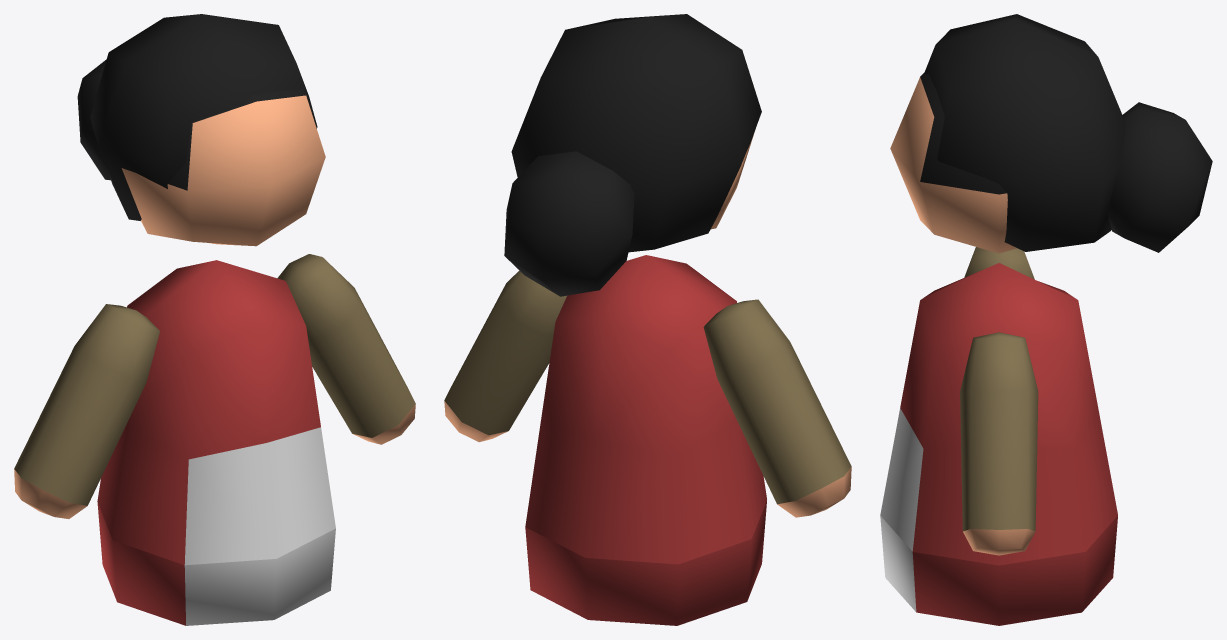
The model's file is Girl_1.fbx.
3 renders of one model, left to right at view 1: azimuth 30°, elevation 25°; view 2: azimuth 150°, elevation 25°; view 3: azimuth 270°, elevation 25°, orthographic. The views are drawn at different scales.
Parts seen in each view (by area): view 1: Girl_1; view 2: Girl_1; view 3: Girl_1.
Part boxes in pixels (left/top/right/bottom): Girl_1: left=14, top=14, right=415, bottom=625; Girl_1: left=444, top=14, right=851, bottom=625; Girl_1: left=880, top=14, right=1212, bottom=625.
Bounding box in the file's own units: 137 × 197 × 103.
